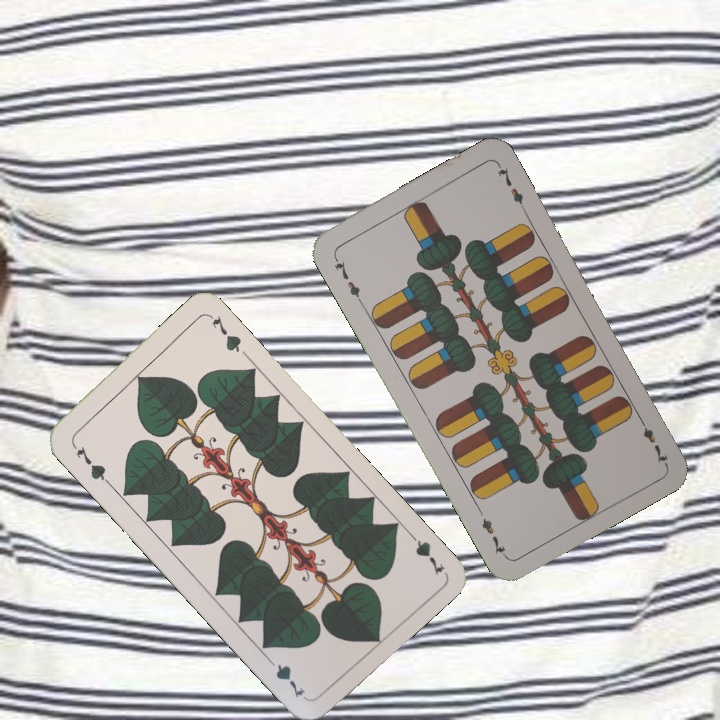E7: (634, 412, 670, 467), (329, 252, 365, 306)
G7: (402, 526, 447, 578), (68, 439, 112, 486)
